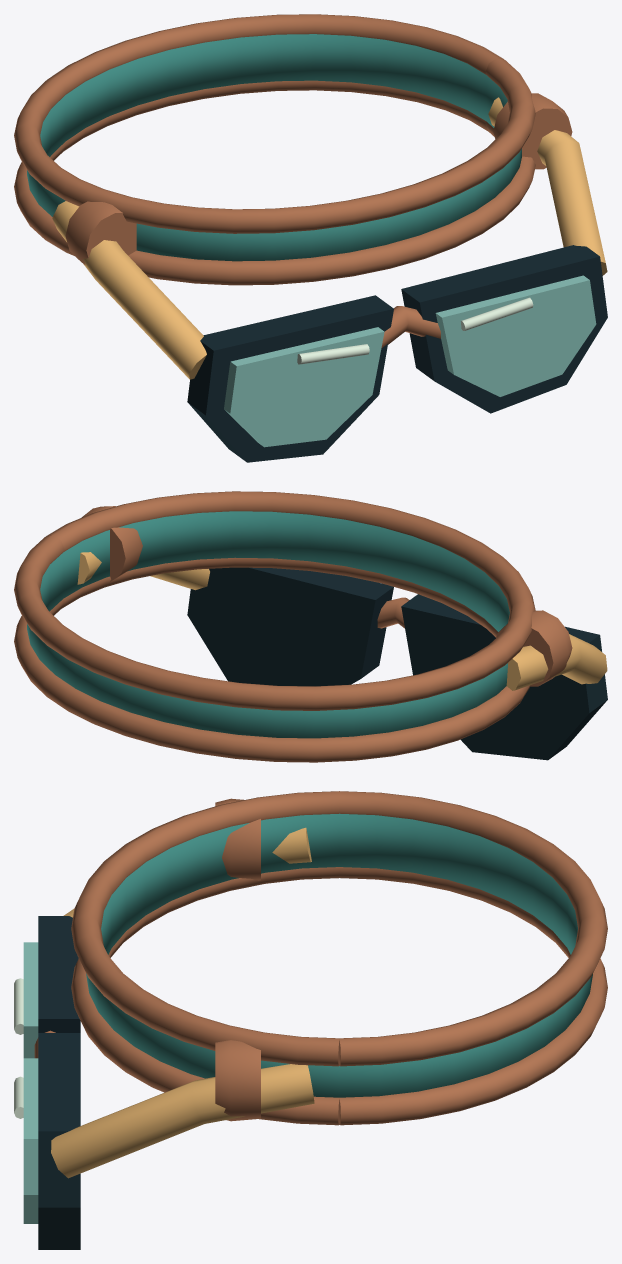
3 renders of one model, top to bottom at view 1: azimuth 30°, elevation 25°; view 2: azimuth 150°, elevation 25°; view 3: azimuth 270°, elevation 25°, orthographic. The views are drawn at different scales.
Visible parts, largest first — view 1: PR149 enamel and hardware; view 2: PR149 enamel and hardware; view 3: PR149 enamel and hardware.
Boxes of the visible parts, x1=… form: PR149 enamel and hardware: x1=14, y1=14, x2=607, y2=462; PR149 enamel and hardware: x1=14, y1=491, x2=607, y2=762; PR149 enamel and hardware: x1=14, y1=791, x2=607, y2=1249.
Size of the model in its own units: 0.24 by 0.1051 by 0.2198.
